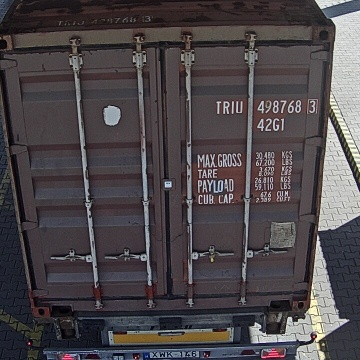serial_id: (216, 99, 317, 113)
